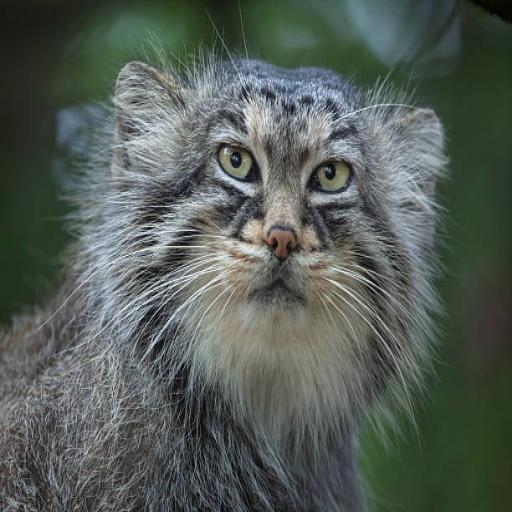manul: (0, 56, 446, 511)
